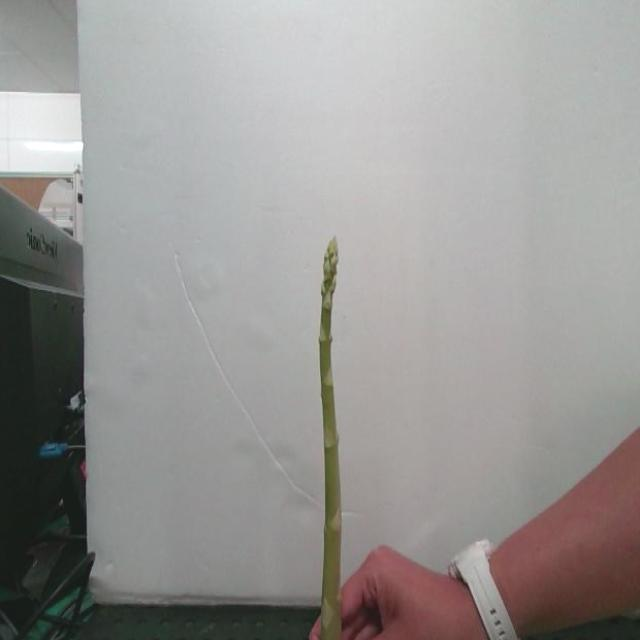aspargus: (318, 239, 343, 640)
